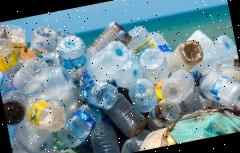plastic: (54, 30, 92, 84)
